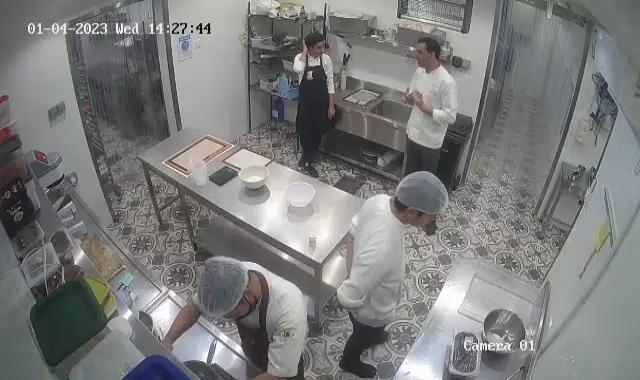hairnet: (195, 256, 253, 322), (396, 170, 449, 222)
no_hairnet: (418, 36, 442, 63), (304, 32, 326, 52)
